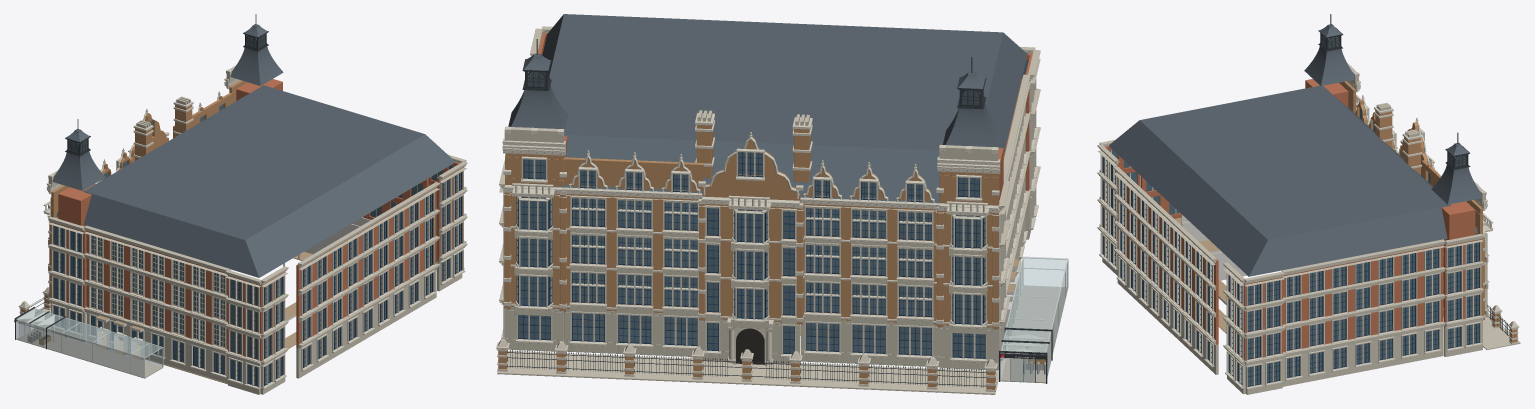
The model's file is sal-exterior-a9f3fd25a4b4.glb.
The picture shows the model from 3 angles, left to right: view 1: azimuth 30°, elevation 25°; view 2: azimuth 150°, elevation 25°; view 3: azimuth 270°, elevation 25°; orthographic projection. The views are drawn at different scales.
Visible parts, largest first — view 1: SAL.001; view 2: SAL.001; view 3: SAL.001.
Part boxes in pixels (box(x1,y1,x2,y2)): SAL.001: box(14, 14, 467, 394); SAL.001: box(496, 14, 1068, 394); SAL.001: box(1097, 14, 1520, 394).
Size of the model in its own units: 68.11 by 33.95 by 61.15.
